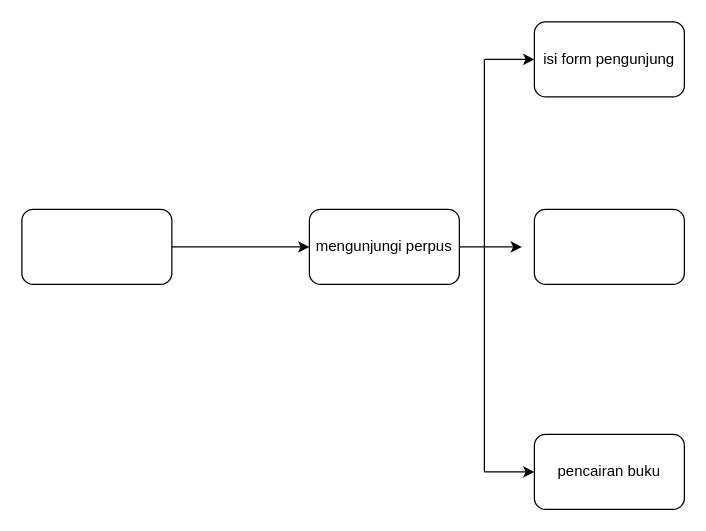
Some shapes in this 706 by 531 pixel diagram are drawn without their labels. Each missing label, with the box of its shape:
lihat daftar pengunjung: (533, 208, 684, 284)
user: (21, 208, 172, 284)
